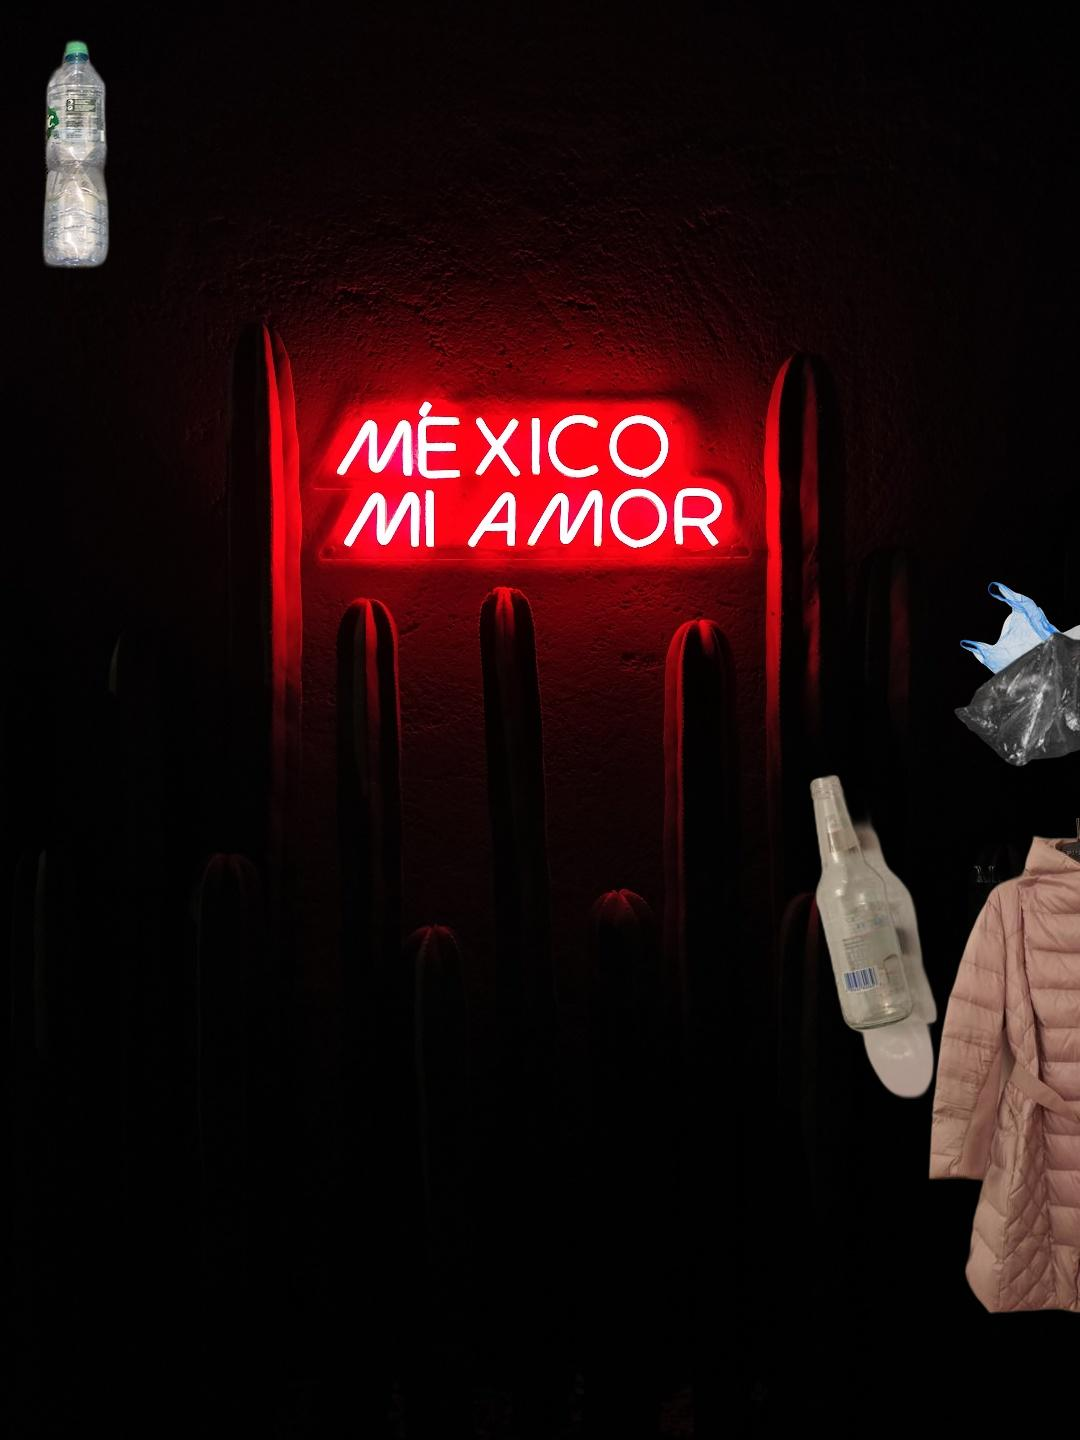clothes: (925, 818, 1080, 1321), (1002, 1350, 1080, 1440)
glass: (805, 771, 940, 1099)
plastic-bag: (951, 581, 1080, 770)
plastic-bottles: (37, 35, 113, 276)
trashbox-cardboard: (920, 836, 1080, 940)
